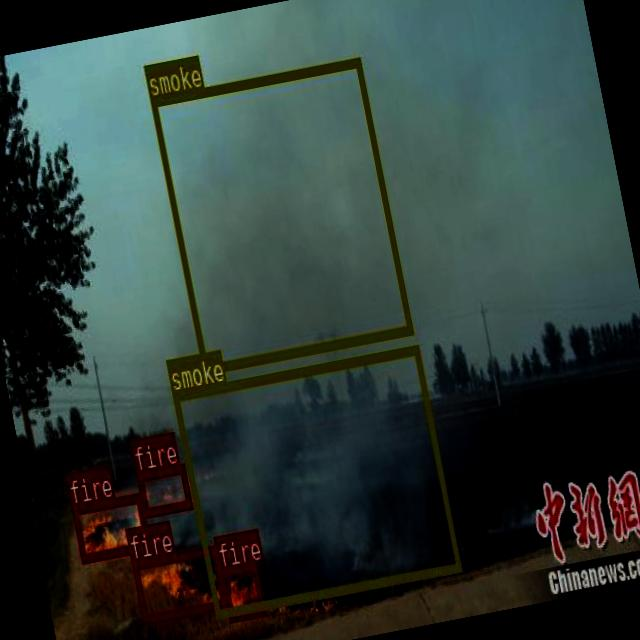fire: (130, 544, 227, 624), (70, 492, 150, 562), (136, 462, 192, 516), (220, 562, 265, 622)
smoke: (148, 55, 413, 372), (172, 344, 461, 616)
